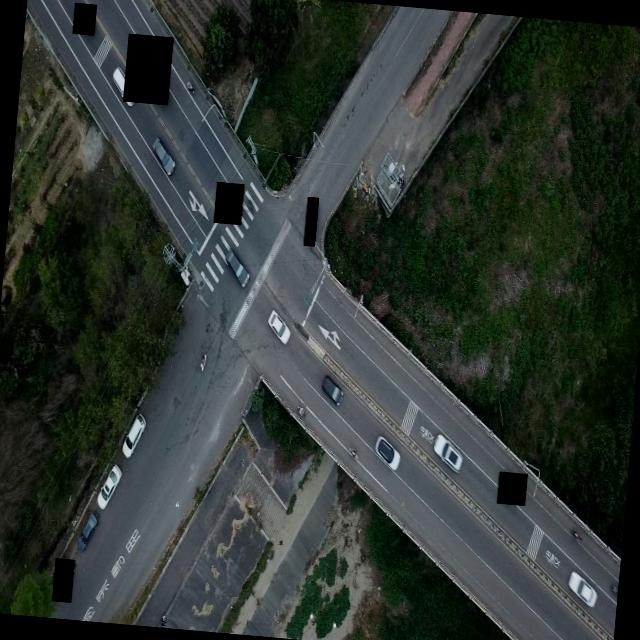bike: (199, 352, 207, 372), (186, 80, 196, 94)
car: (564, 560, 602, 610), (430, 432, 464, 473), (96, 462, 122, 512), (121, 411, 146, 459), (148, 136, 176, 178), (222, 248, 251, 288), (372, 434, 401, 472), (265, 308, 292, 346), (76, 508, 99, 552), (320, 374, 345, 406), (110, 65, 126, 98)
